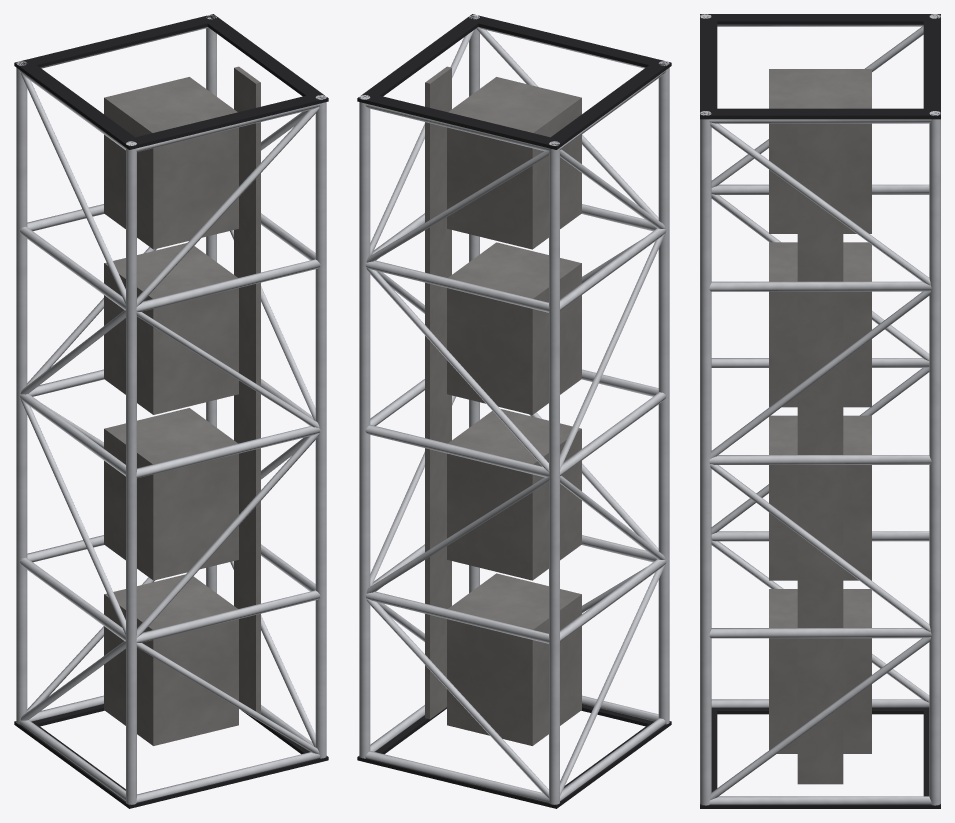
Rendered from station07_truss_l.glb.
3 renders of one model, left to right at view 1: azimuth 30°, elevation 25°; view 2: azimuth 150°, elevation 25°; view 3: azimuth 270°, elevation 25°, orthographic. The views are drawn at different scales.
Visible parts, largest first — view 1: service_bays, truss_members, utility_tray, end_frames; view 2: service_bays, truss_members, utility_tray, end_frames; view 3: truss_members, service_bays, utility_tray, end_frames.
Part boxes in pixels (<box>): service_bays: <box>104,77,238,745</box>; truss_members: <box>16,15,326,804</box>; utility_tray: <box>234,66,260,719</box>; end_frames: <box>14,14,328,808</box>; service_bays: <box>447,77,581,745</box>; truss_members: <box>359,15,669,804</box>; utility_tray: <box>425,66,451,719</box>; end_frames: <box>357,14,671,808</box>; truss_members: <box>700,14,940,805</box>; service_bays: <box>769,69,871,753</box>; utility_tray: <box>797,123,843,784</box>; end_frames: <box>700,14,940,808</box>.
Size of the model in its own units: 3.15 by 10 by 3.15.
Materials: 3 (2 with a texture image).
